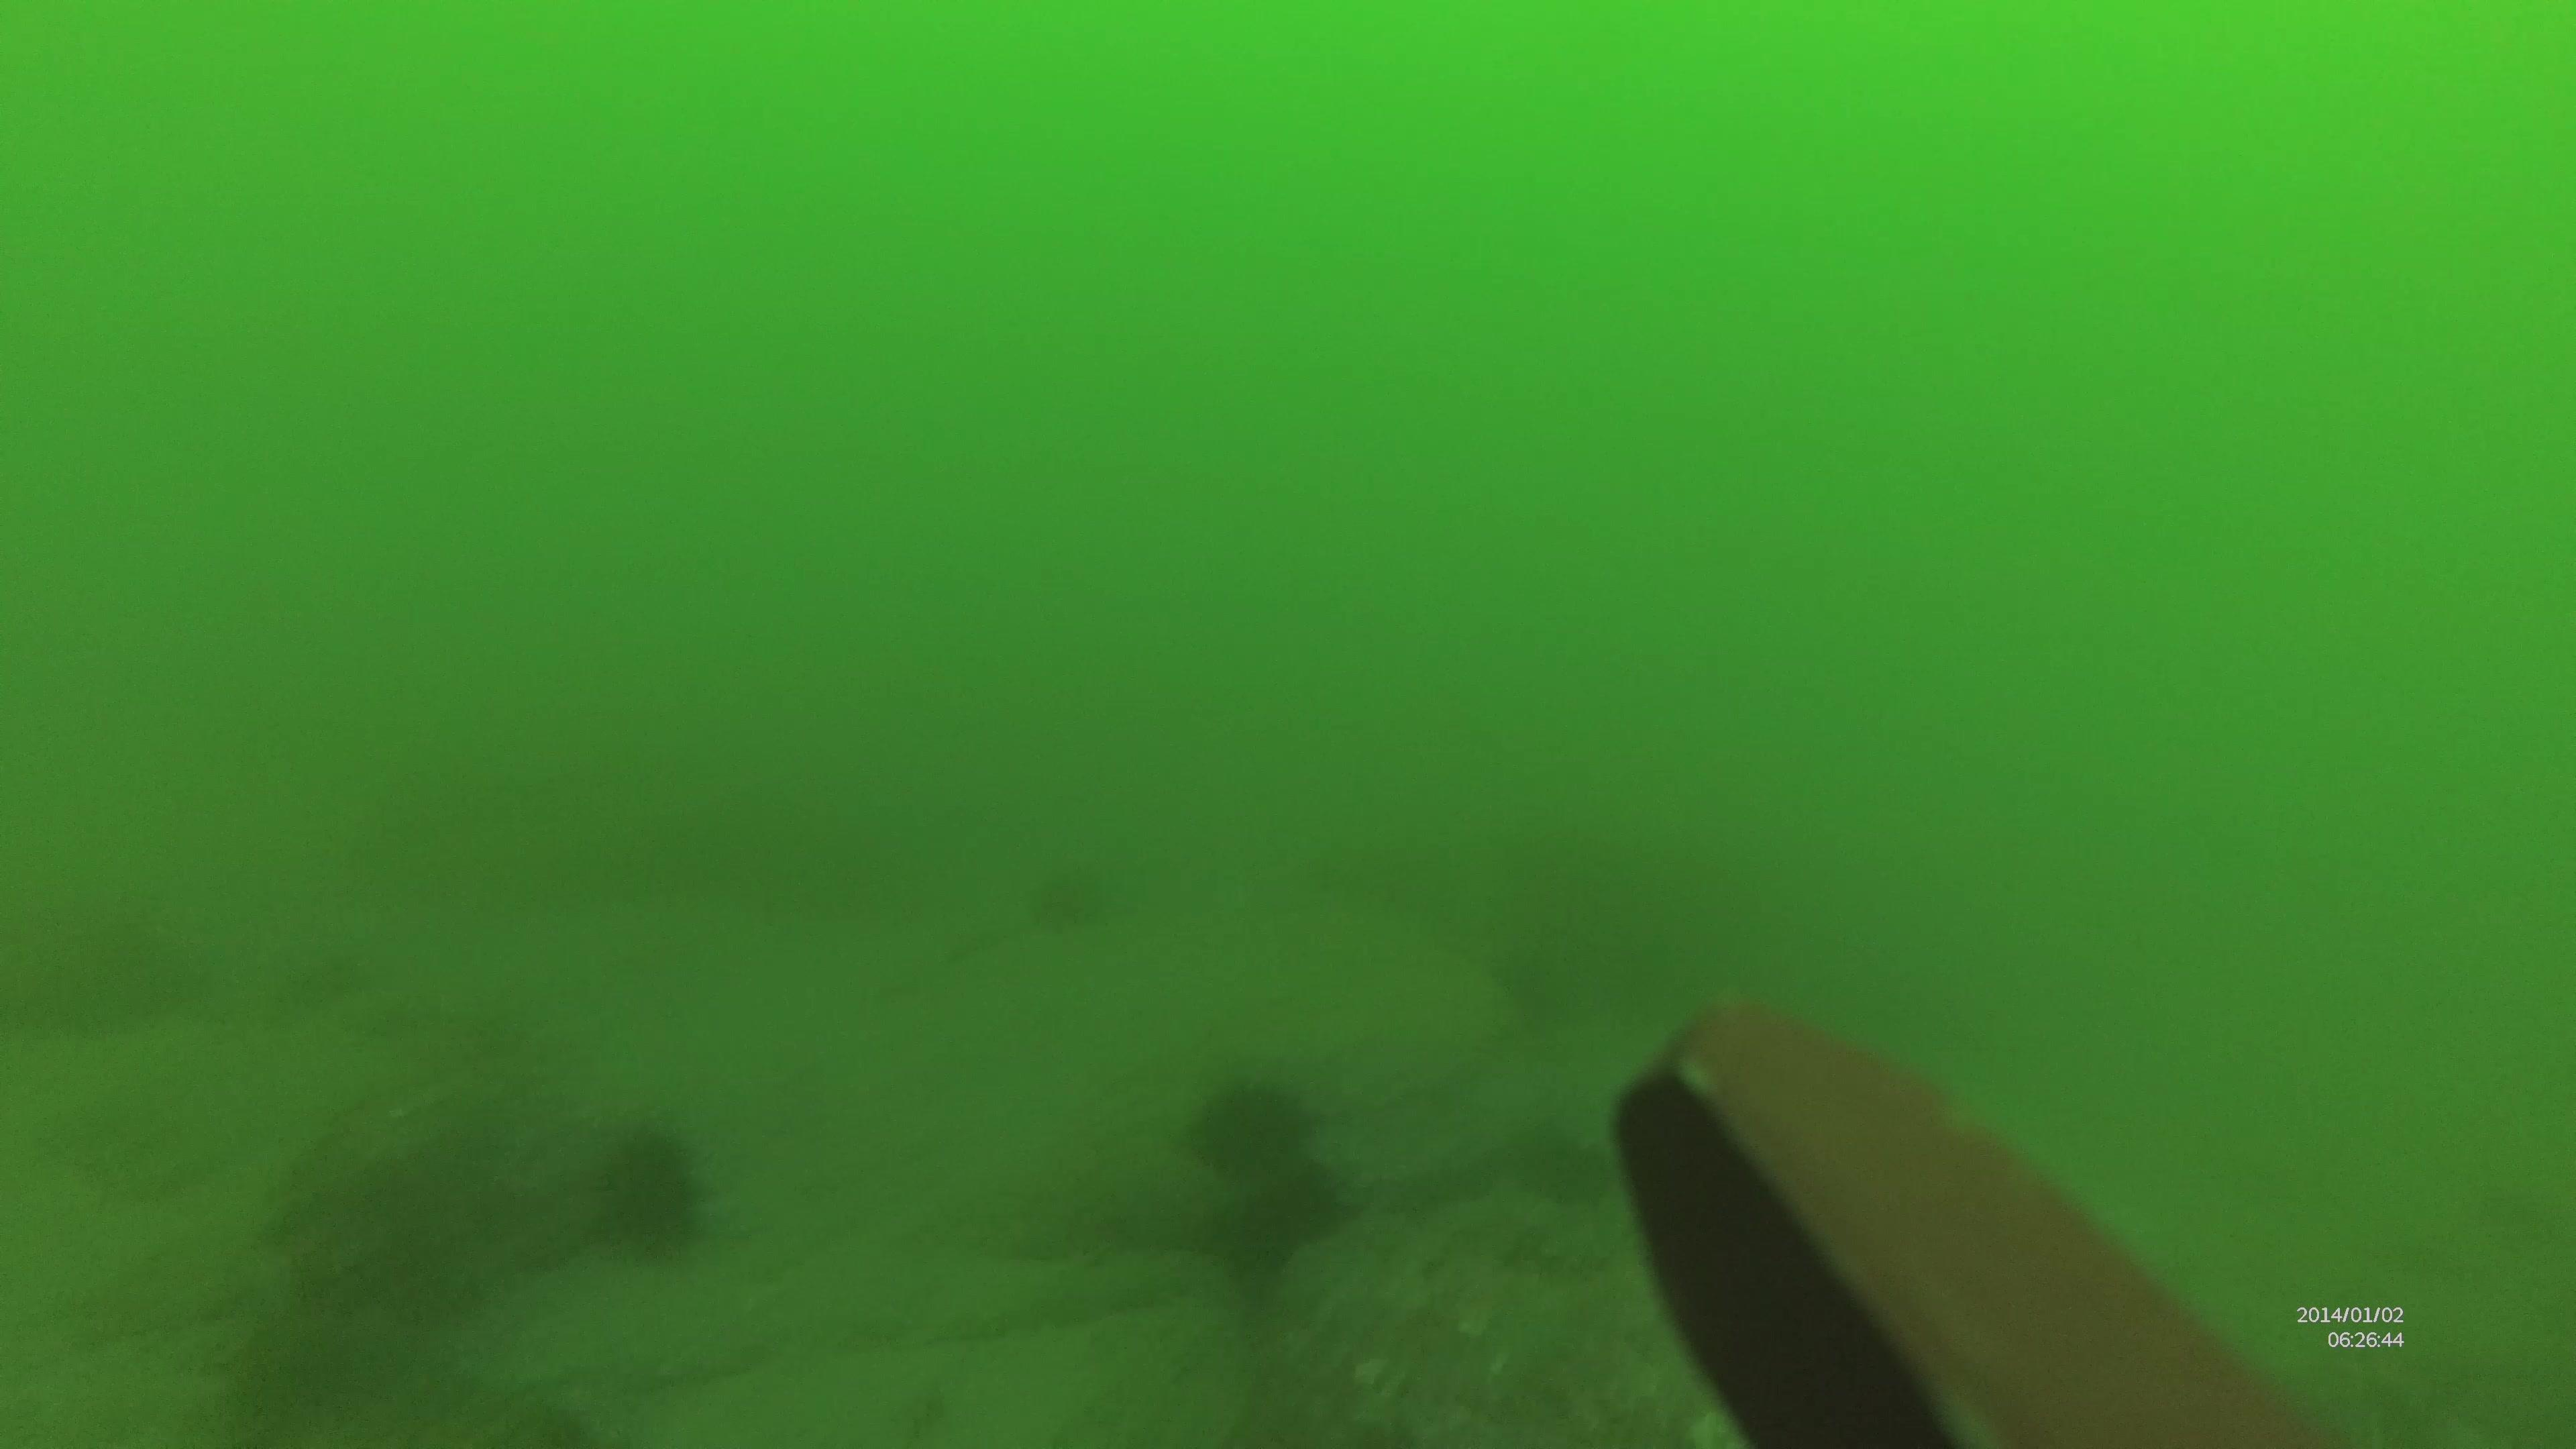echinus: (593, 1129, 702, 1265), (1210, 1155, 1352, 1253), (1187, 1077, 1316, 1177)
